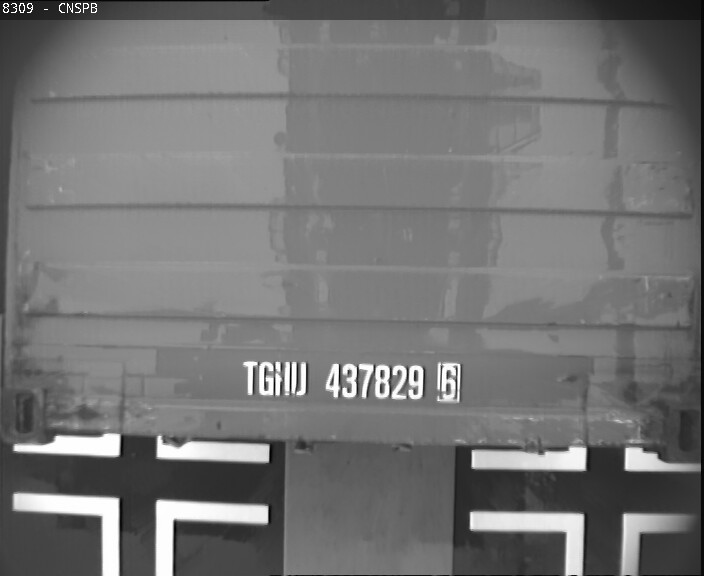groundmarker_1: (10, 491, 270, 576), (470, 511, 704, 576)
